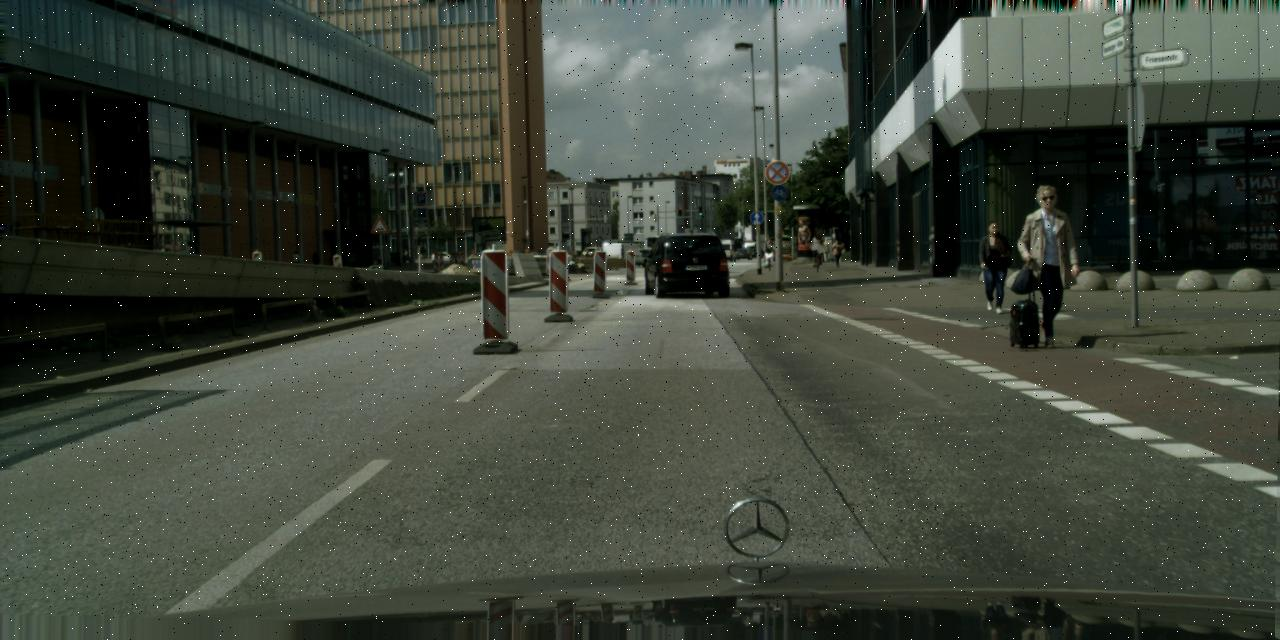ped: (1015, 185, 1080, 344), (976, 220, 1012, 310), (811, 233, 824, 265), (764, 238, 774, 266), (832, 240, 842, 266), (821, 237, 830, 262), (394, 249, 400, 266), (419, 244, 424, 258), (403, 249, 408, 260)
